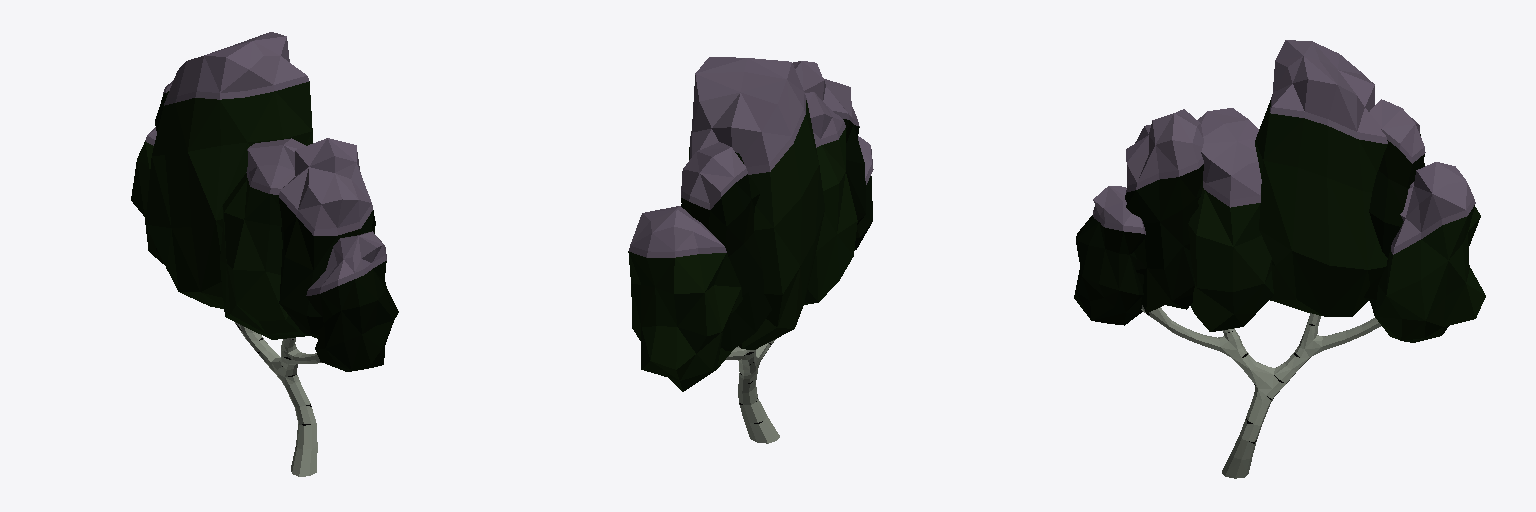
File: BirchTree_Snow_4.obj
3 views of the same model, side by side, from view 1: azimuth 30°, elevation 25°; view 2: azimuth 150°, elevation 25°; view 3: azimuth 270°, elevation 25° (orthographic).
Parts seen in each view (by area): view 1: BirchTree_Snow_4_Cube.119; view 2: BirchTree_Snow_4_Cube.119; view 3: BirchTree_Snow_4_Cube.119.
Part boxes in pixels (x1,y1,x2,y2): BirchTree_Snow_4_Cube.119: (131, 32, 398, 476); BirchTree_Snow_4_Cube.119: (628, 57, 873, 443); BirchTree_Snow_4_Cube.119: (1074, 40, 1485, 478).
Bounding box in the file's own units: 1.15 × 3.6 × 3.29.